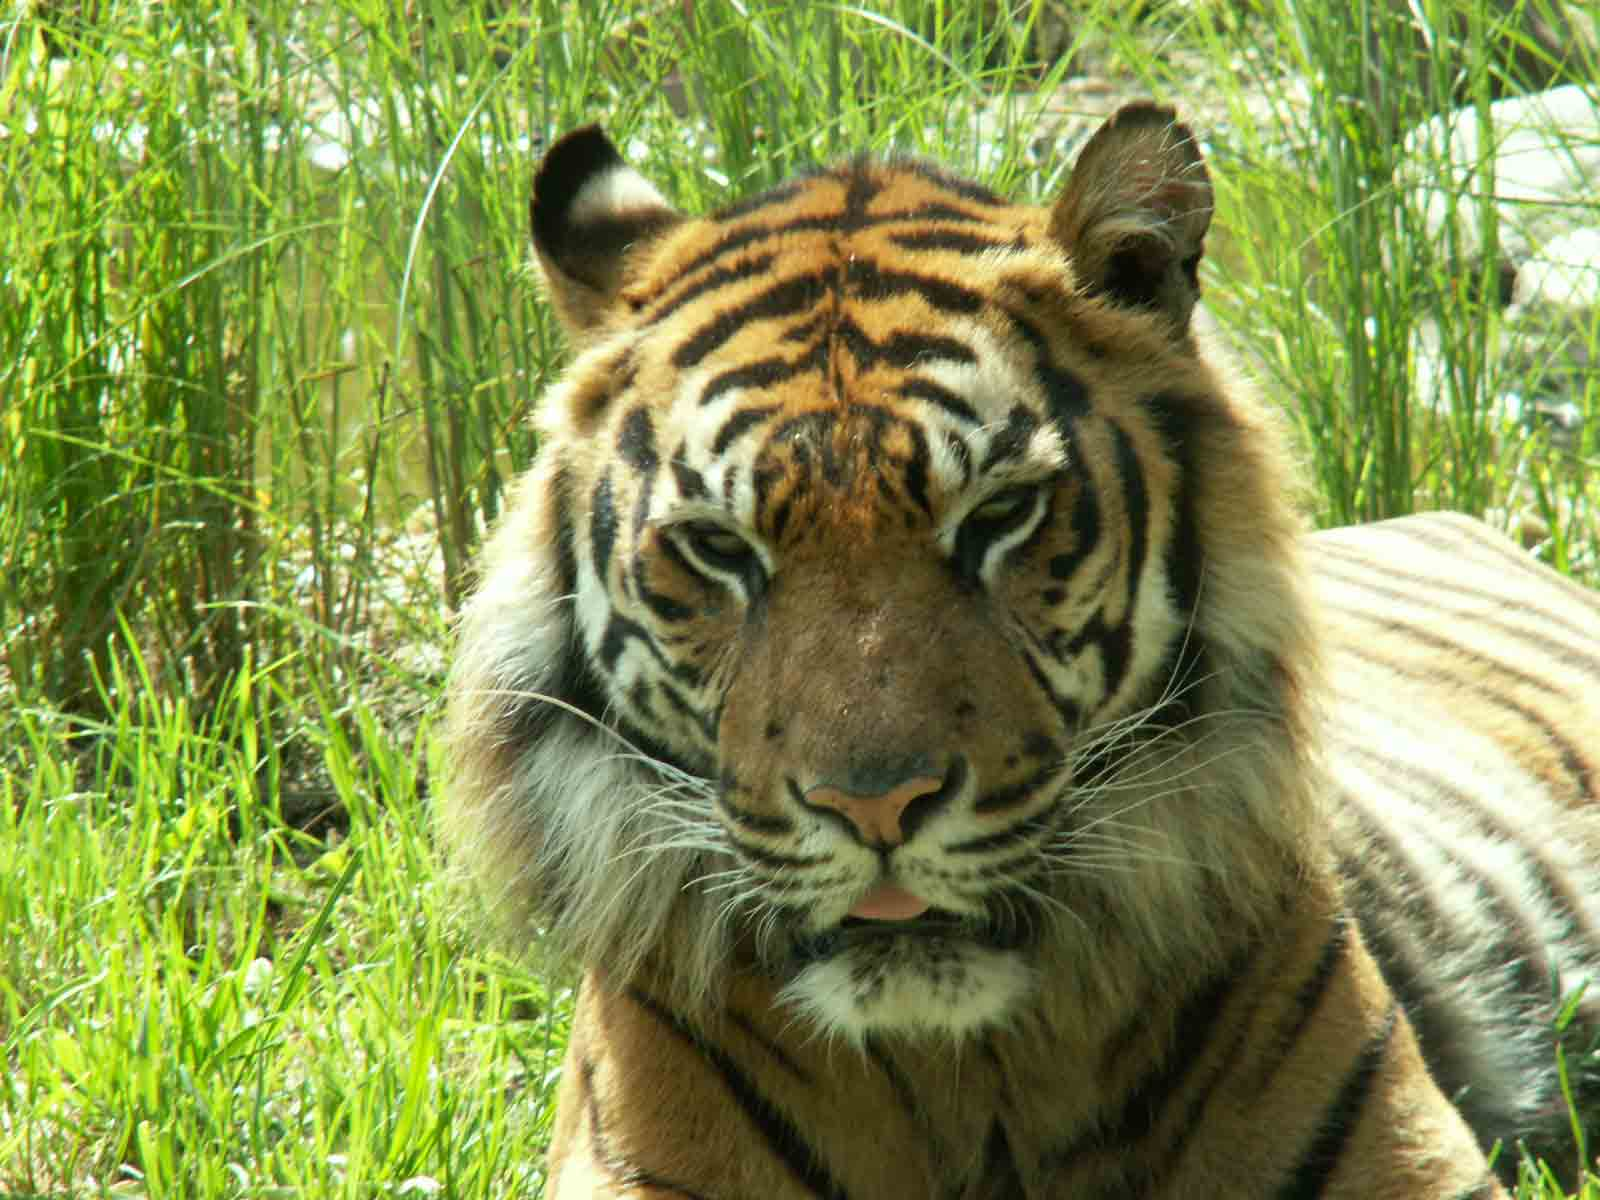Tigre: (406, 101, 1506, 1148)
